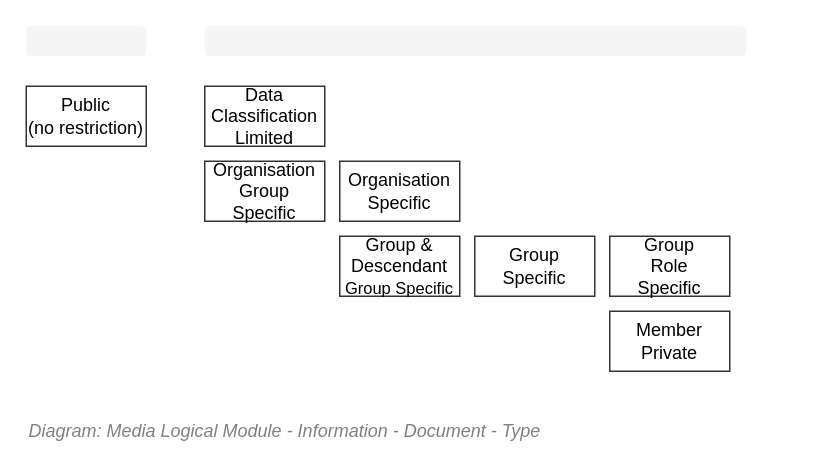
The diagram is 833 pixels wide and 471 high, and some of its shapes have lost their labels. Each missing label, with the centre of its shape:
Anonymous: the point at 86,41
Authenticated: the point at 475,41
